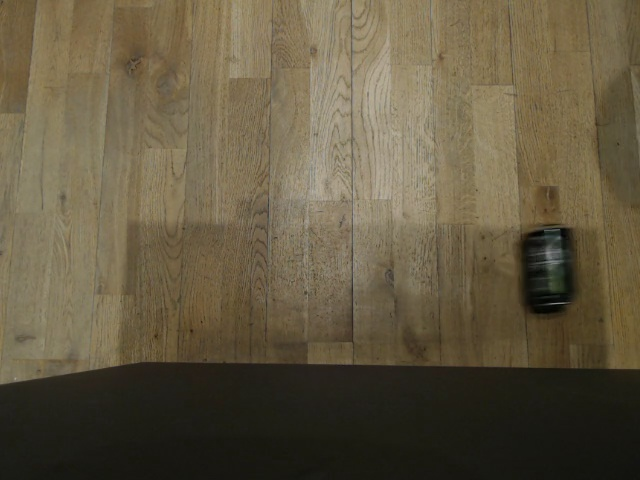beer: (448, 325, 546, 371), (137, 320, 230, 365)
